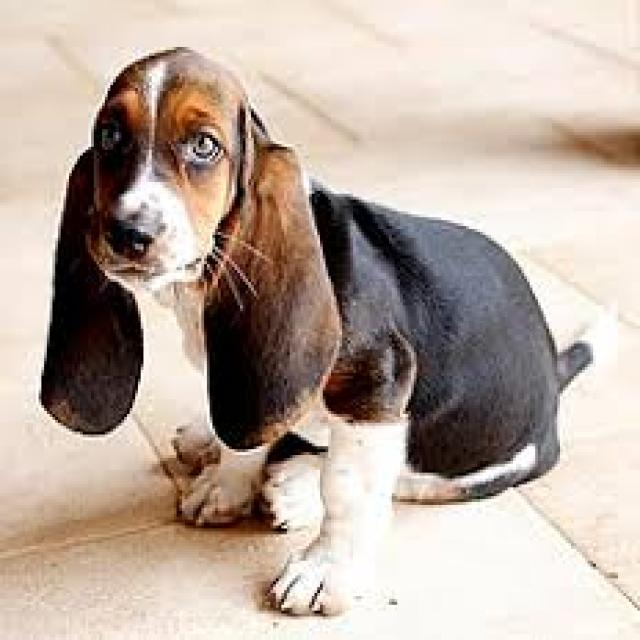dogs: (24, 15, 621, 622)
